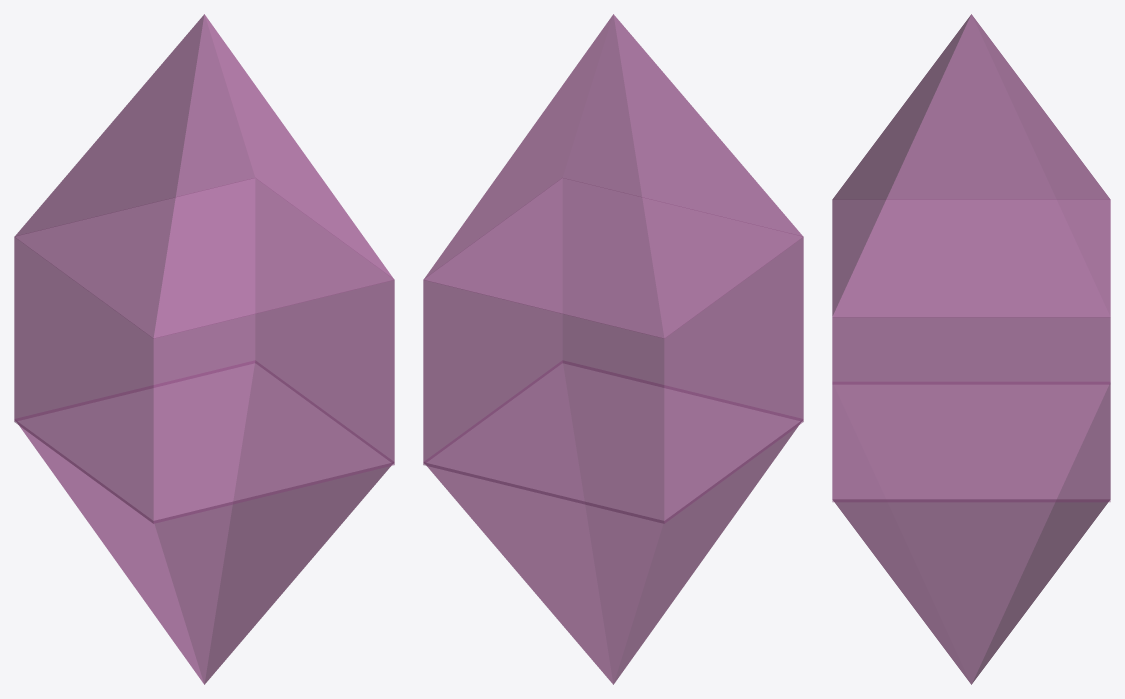
Rendered from gem.fbx.
The picture shows the model from 3 angles, left to right: view 1: azimuth 30°, elevation 25°; view 2: azimuth 150°, elevation 25°; view 3: azimuth 270°, elevation 25°; orthographic projection.
Parts seen in each view (by area): view 1: pCube4; view 2: pCube4; view 3: pCube4.
Part boxes in pixels (box(x1,y1,x2,y2)): pCube4: box(14, 14, 394, 684); pCube4: box(423, 14, 803, 684); pCube4: box(832, 14, 1110, 684).
Size of the model in its own units: 0.73 by 1.94 by 0.73.
